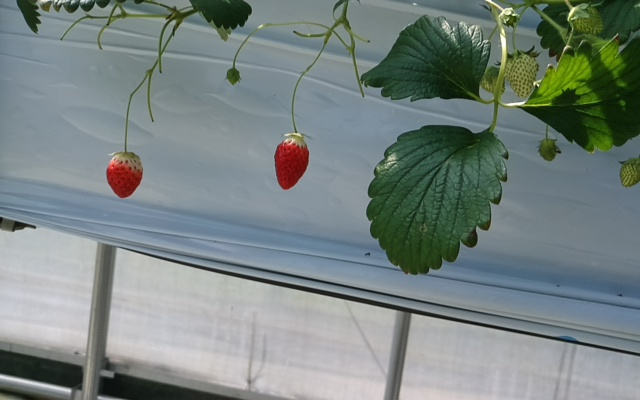GreenStrawberry: (502, 47, 539, 102), (565, 2, 606, 38), (478, 63, 508, 96), (617, 157, 640, 191), (538, 137, 560, 163)
MatureStrawberry: (272, 130, 310, 192), (105, 150, 144, 201)
